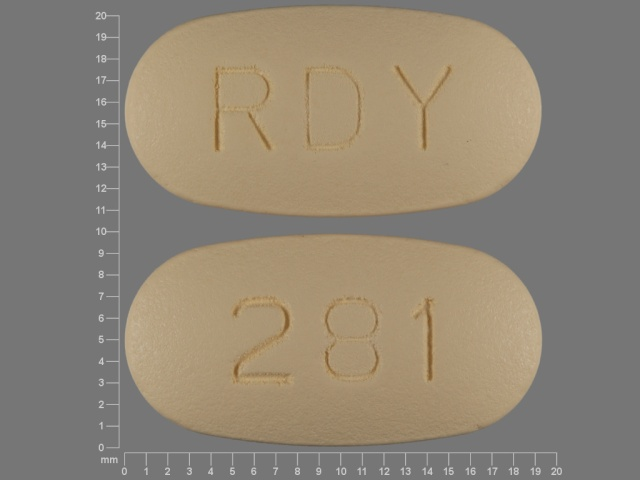1: (411, 292, 441, 387)
2: (232, 292, 297, 389)
8: (319, 294, 384, 383)
D: (302, 61, 364, 156)
R: (205, 63, 276, 161)
Y: (392, 60, 455, 154)
